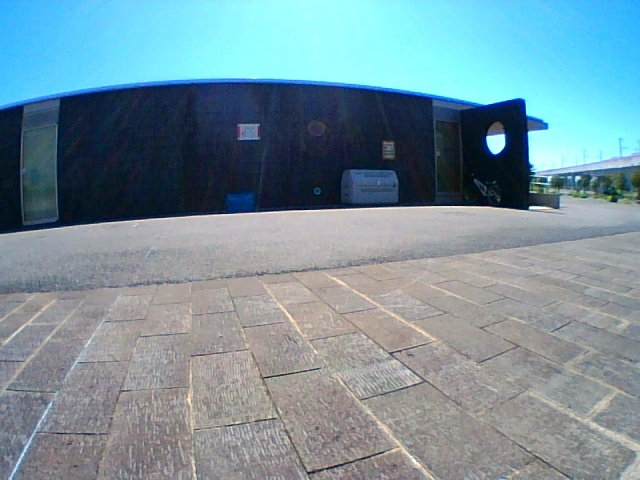blue_box: (228, 194, 253, 212)
